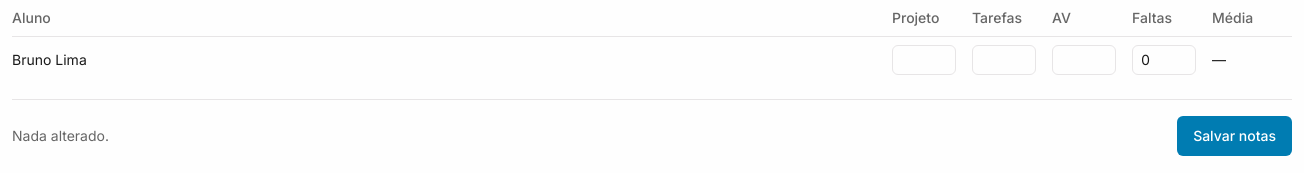
Scenario: GradeDeNotas › aceita vírgula decimal
Type "7,5" into the field named "Projeto de Bruno Lima" at [924, 60], box [892, 45, 956, 75]
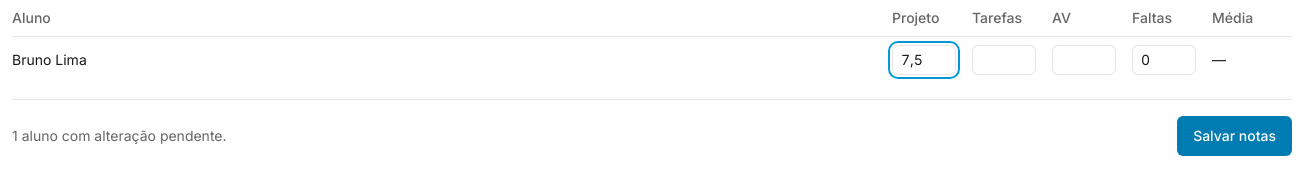
Type "7,5" into the field named "Tarefas de Bruno Lima" at [1004, 60], box [972, 45, 1036, 75]
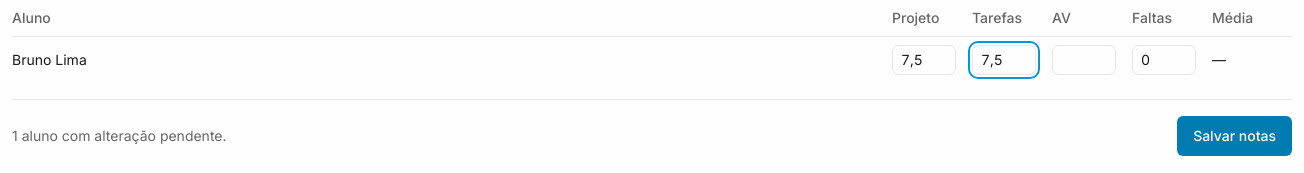
Type "7,5" into the field named "AV de Bruno Lima" at [1084, 60], box [1052, 45, 1116, 75]
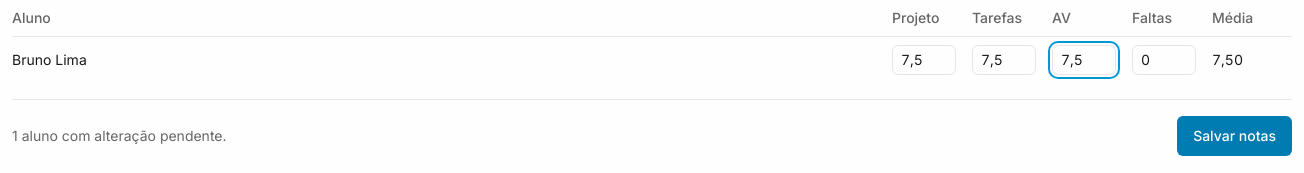
Check: the text "7,50" is shown, box [1212, 37, 1292, 83]
